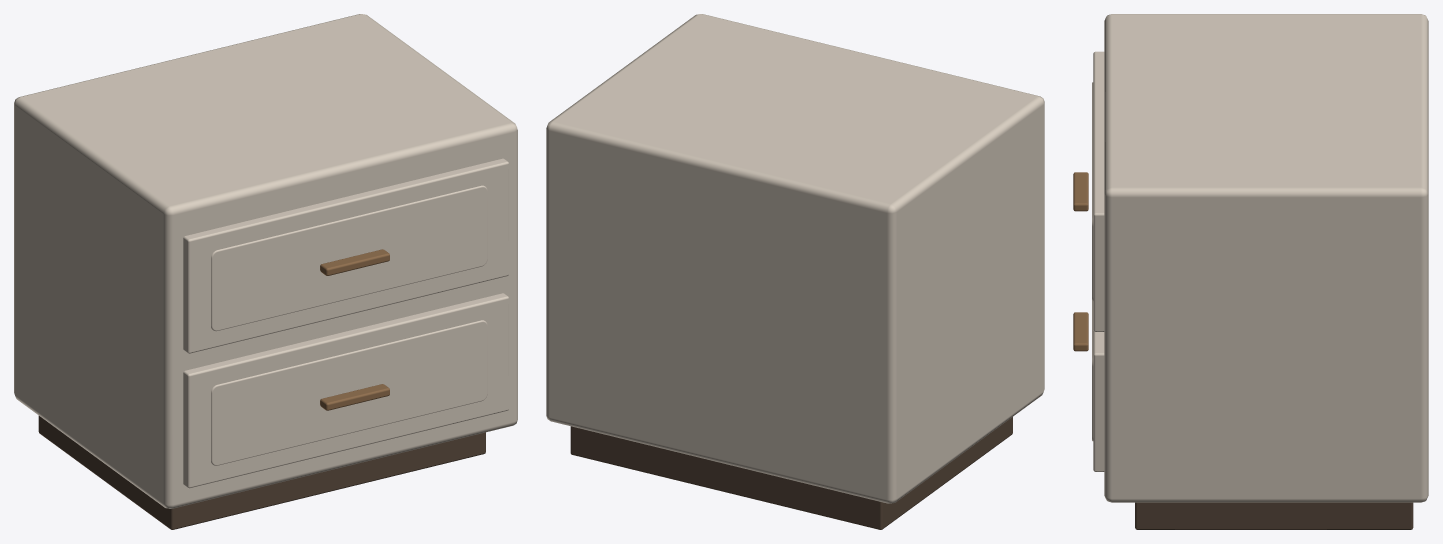
Rendered from nota-bed-set--night.glb.
3 views of the same model, side by side, from view 1: azimuth 30°, elevation 25°; view 2: azimuth 150°, elevation 25°; view 3: azimuth 270°, elevation 25° (orthographic). The views are drawn at different scales.
Parts seen in each view (by area): view 1: body, panel0, panel1, dr0, dr1, plinth, pull0, pull1; view 2: body, plinth; view 3: body, plinth, dr1, dr0, pull0, pull1, panel1.
Part boxes in pixels (x1=…): body: x1=14, y1=14, x2=517, y2=508; panel0: x1=211, y1=320, x2=487, y2=465; panel1: x1=211, y1=185, x2=487, y2=331; dr0: x1=183, y1=293, x2=508, y2=488; dr1: x1=183, y1=158, x2=508, y2=353; plinth: x1=38, y1=416, x2=485, y2=529; pull0: x1=320, y1=384, x2=389, y2=410; pull1: x1=320, y1=249, x2=389, y2=275; body: x1=546, y1=14, x2=1044, y2=503; plinth: x1=570, y1=417, x2=1012, y2=529; body: x1=1104, y1=14, x2=1428, y2=502; plinth: x1=1135, y1=502, x2=1413, y2=529; dr1: x1=1093, y1=51, x2=1104, y2=331; dr0: x1=1093, y1=330, x2=1104, y2=471; pull0: x1=1073, y1=312, x2=1088, y2=351; pull1: x1=1073, y1=172, x2=1088, y2=211; panel1: x1=1092, y1=82, x2=1093, y2=300.
Size of the model in its own units: 0.55 by 0.5 by 0.46.
